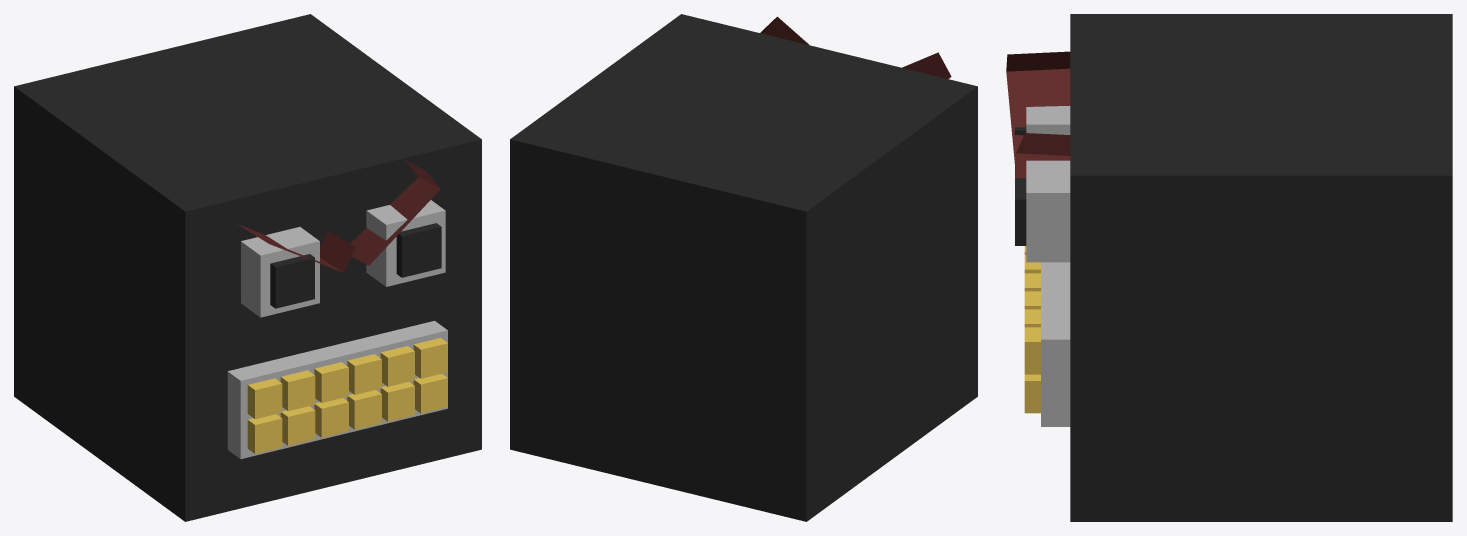
Rendered from boss2.glb.
The picture shows the model from 3 angles, left to right: view 1: azimuth 30°, elevation 25°; view 2: azimuth 150°, elevation 25°; view 3: azimuth 270°, elevation 25°; orthographic projection. The views are drawn at different scales.
Visible parts, largest first — view 1: boss; view 2: boss; view 3: boss.
Boxes of the visible parts, left/top/right/bottom form: boss: left=14, top=14, right=481, bottom=521; boss: left=510, top=14, right=977, bottom=521; boss: left=1006, top=14, right=1452, bottom=521.
Bounding box in the file's own units: 9.88 × 9.92 × 11.54.
